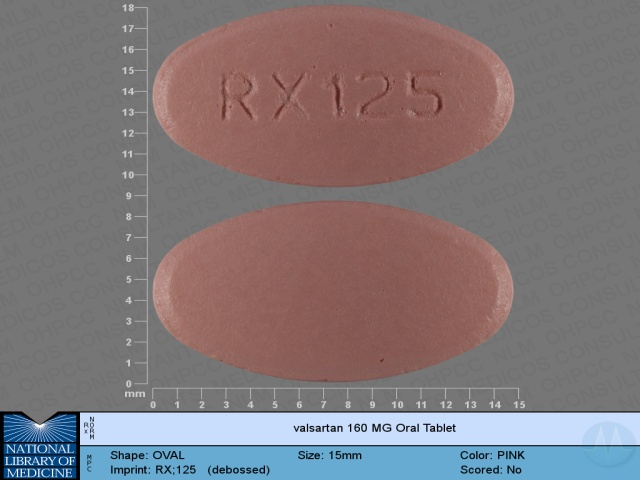1: (321, 71, 351, 127)
2: (356, 68, 394, 122)
5: (401, 68, 450, 122)
R: (216, 67, 258, 125)
X: (268, 67, 311, 123)
